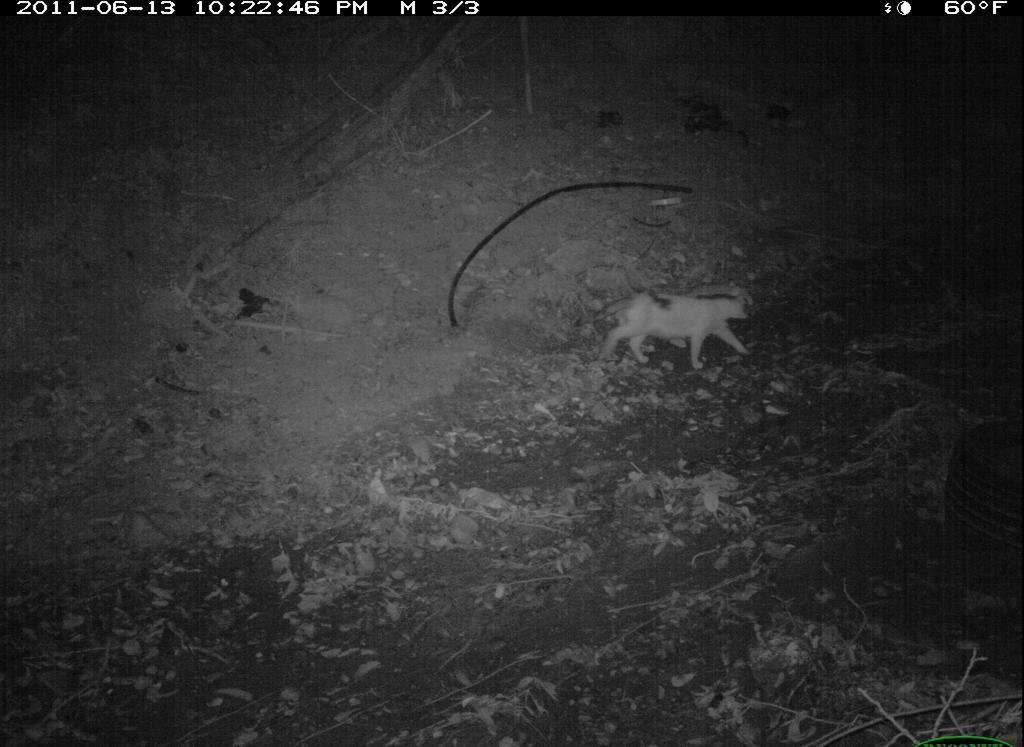cat: (575, 281, 762, 377)
